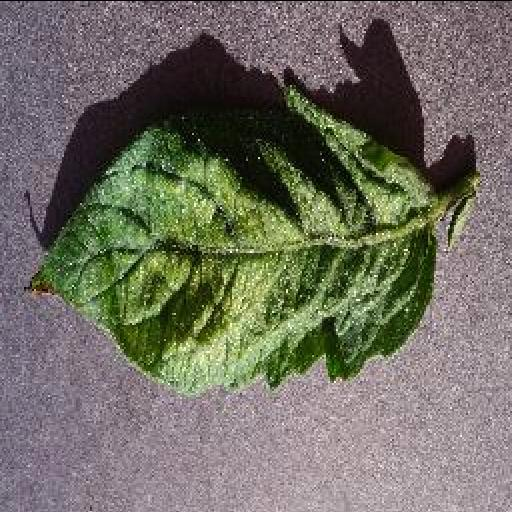disease_tomato: (22, 80, 438, 396)
